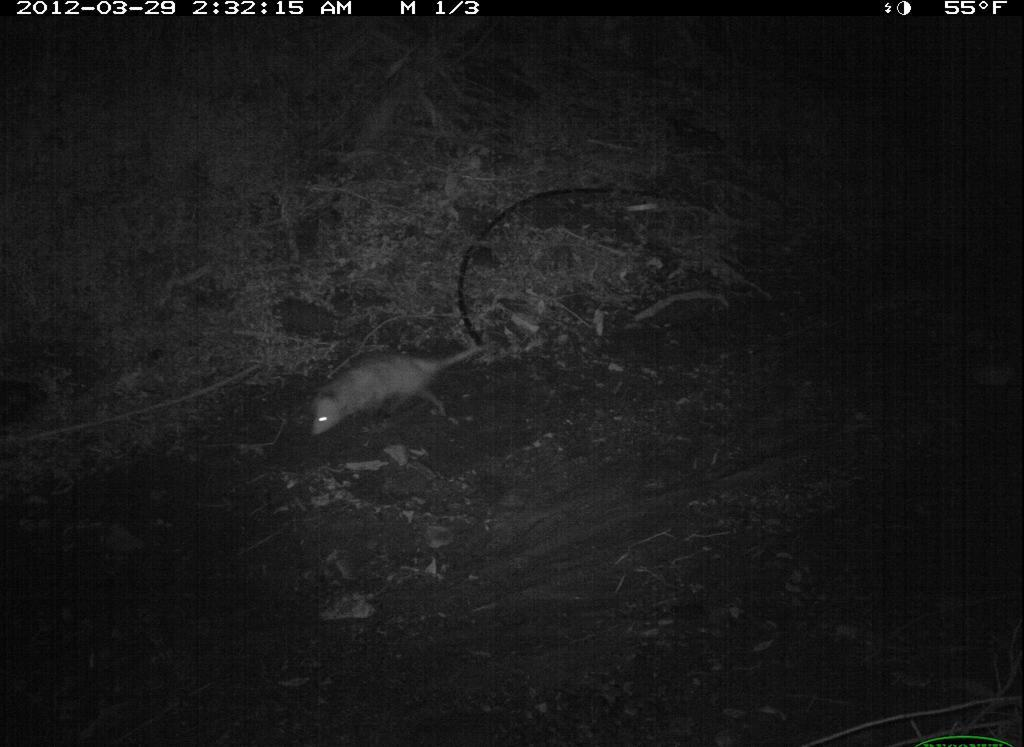opossum: (308, 336, 500, 443)
